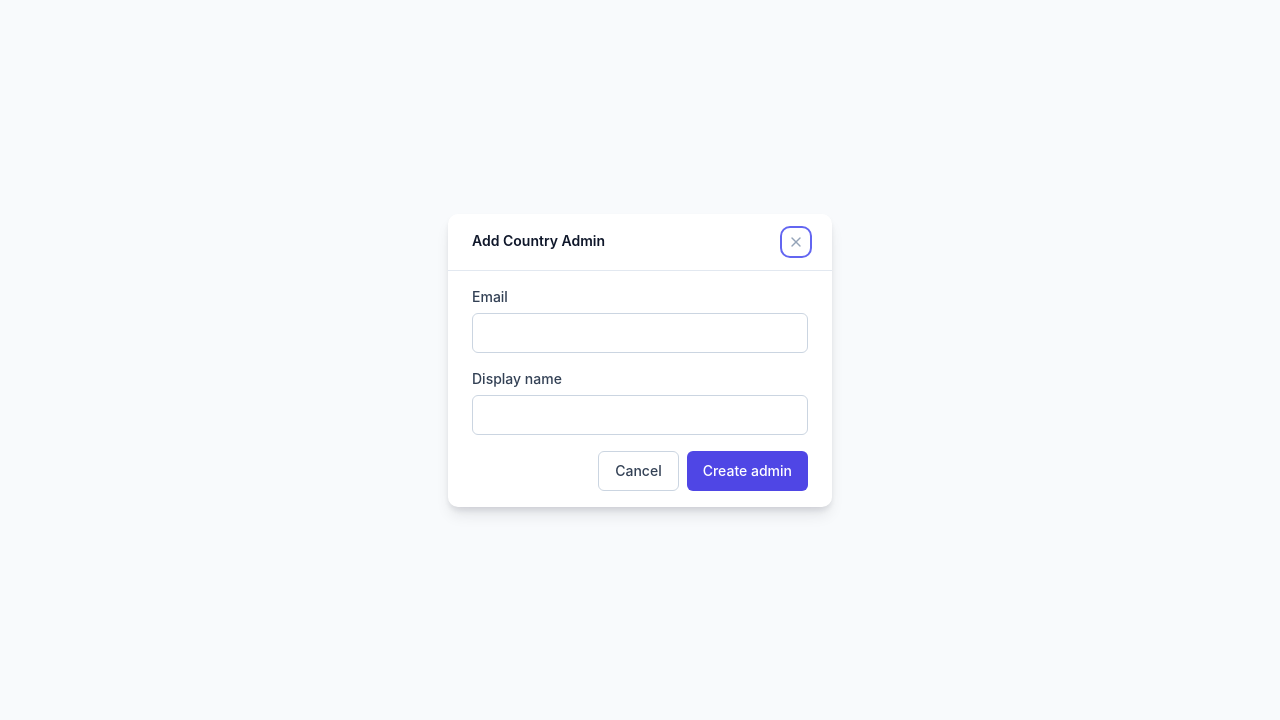
AddCountryAdminModal › falls back to a generic message for a non-ApiError failure
Step 1. Type "admin@example.invalid" into the field labelled "Email" → coordinates (640, 332), box [472,312,808,352]
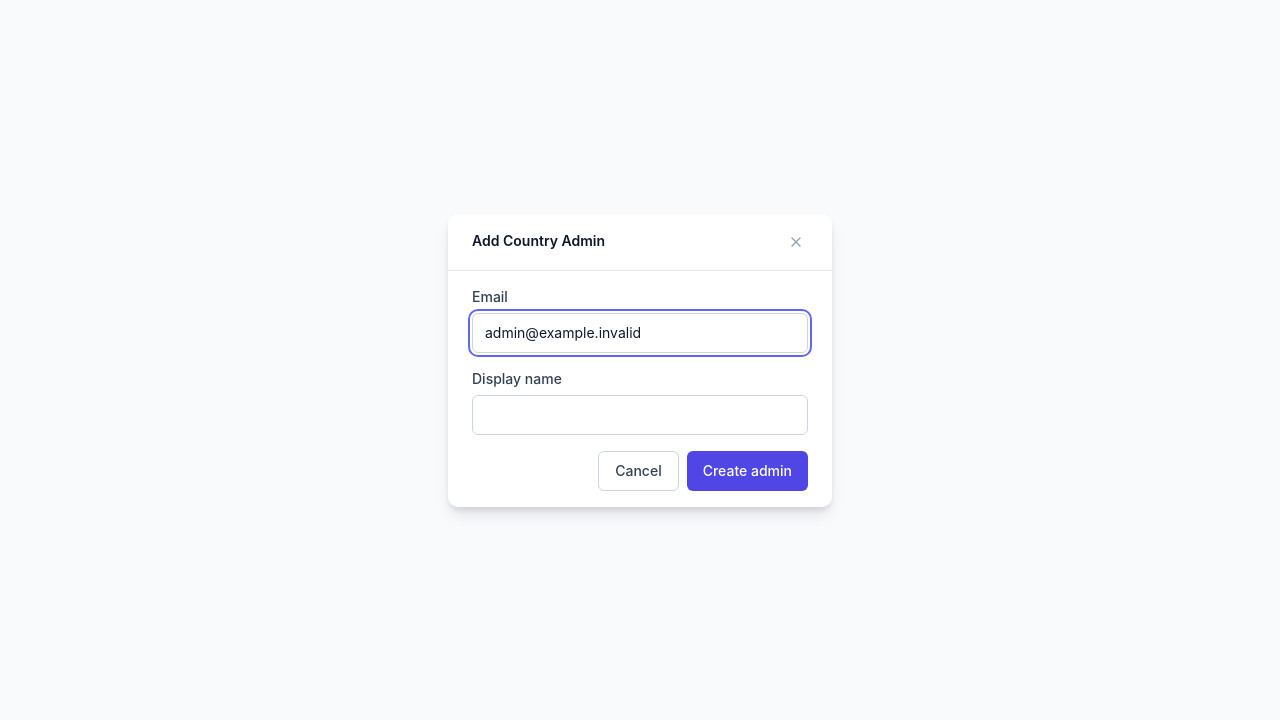
Step 2. Type "Admin" into the field labelled "Display name" → coordinates (640, 414), box [472,394,808,434]
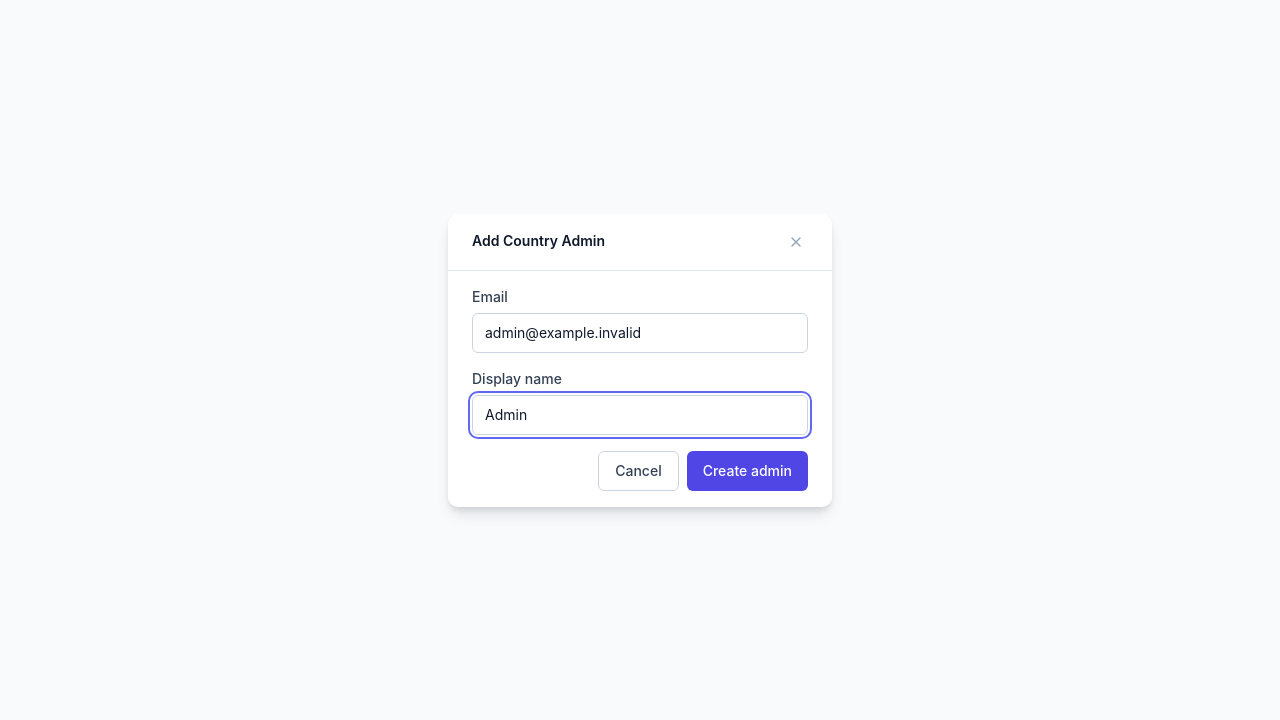
Step 3. Click the button "Create admin" → coordinates (747, 470), box [687,450,808,490]
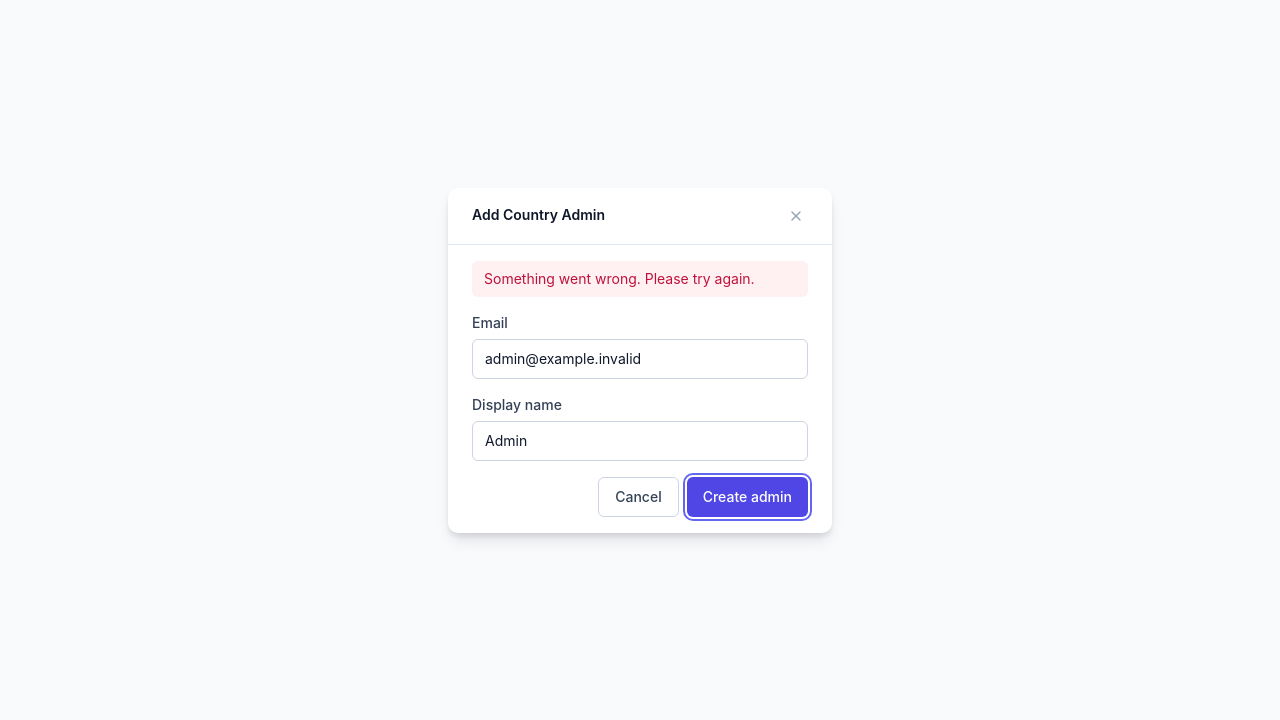
Check: the message shows "Something went wrong", box [484,270,755,286]
